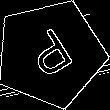P_SE: (20, 22, 81, 85)
